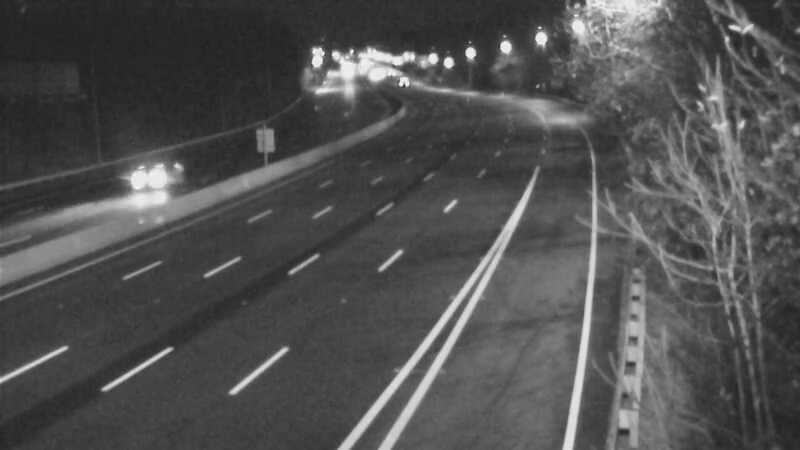vehicle: (107, 136, 187, 216), (373, 56, 423, 106), (344, 49, 394, 99)
